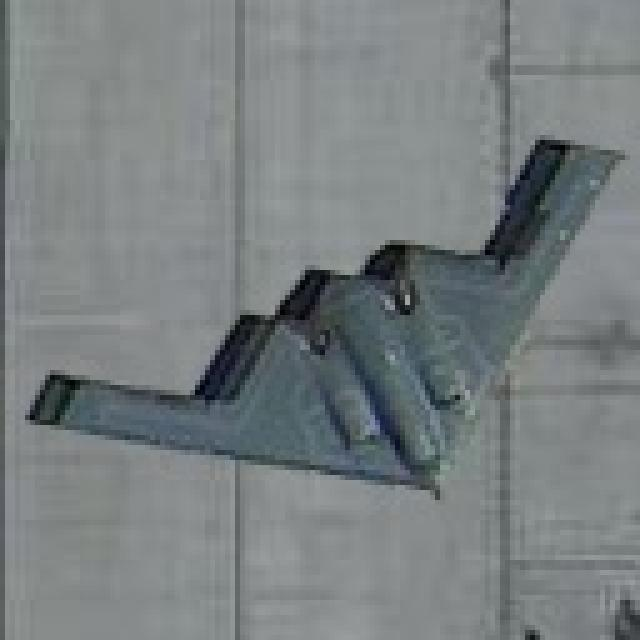B-2_TopDown: (20, 125, 625, 500)
